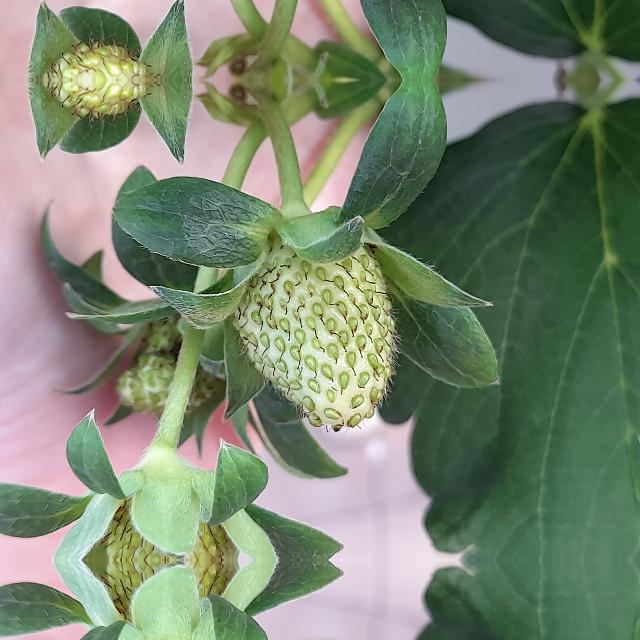Health_25: (232, 230, 404, 432)
